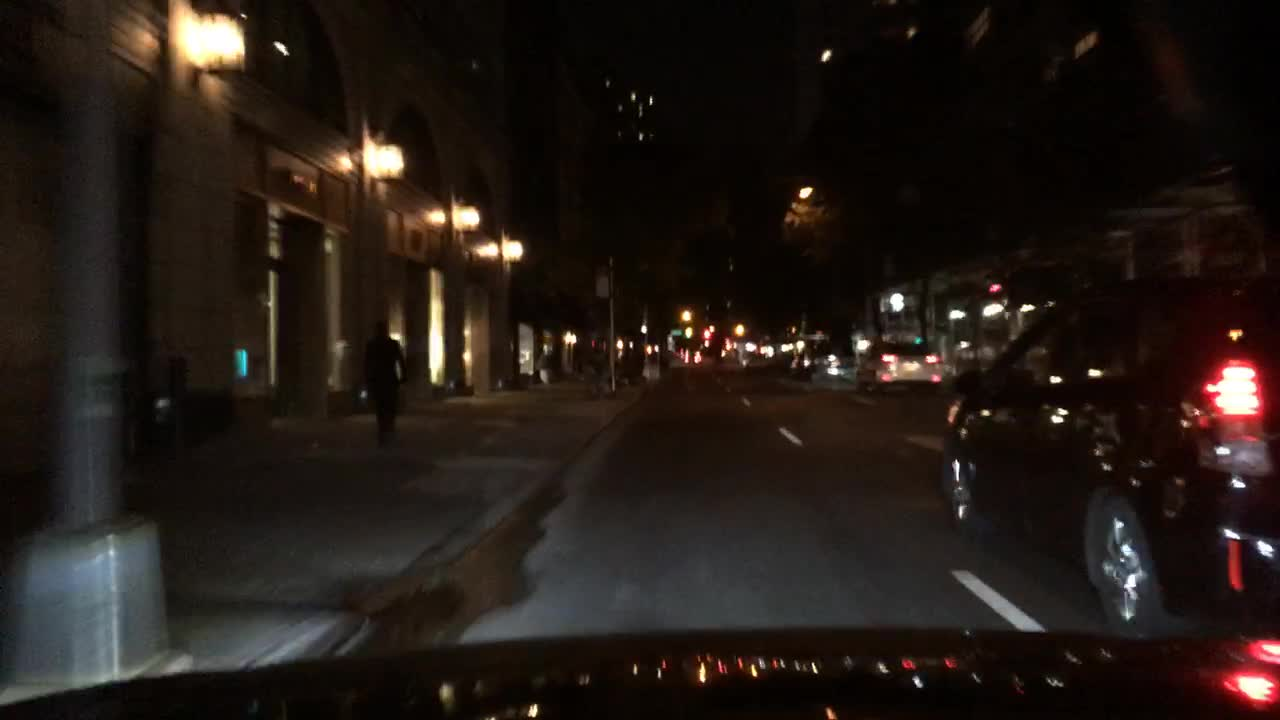car: (940, 267, 1278, 641), (854, 336, 944, 396), (789, 339, 853, 384), (691, 345, 723, 366), (739, 353, 768, 371), (766, 339, 799, 354), (671, 341, 691, 359)
person: (358, 319, 410, 451)
traffic sign: (593, 265, 611, 301)
